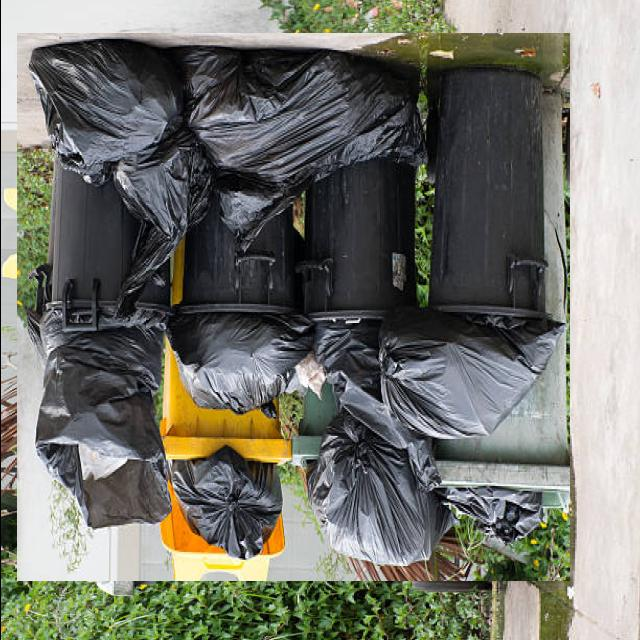garbage: (16, 31, 568, 582)
